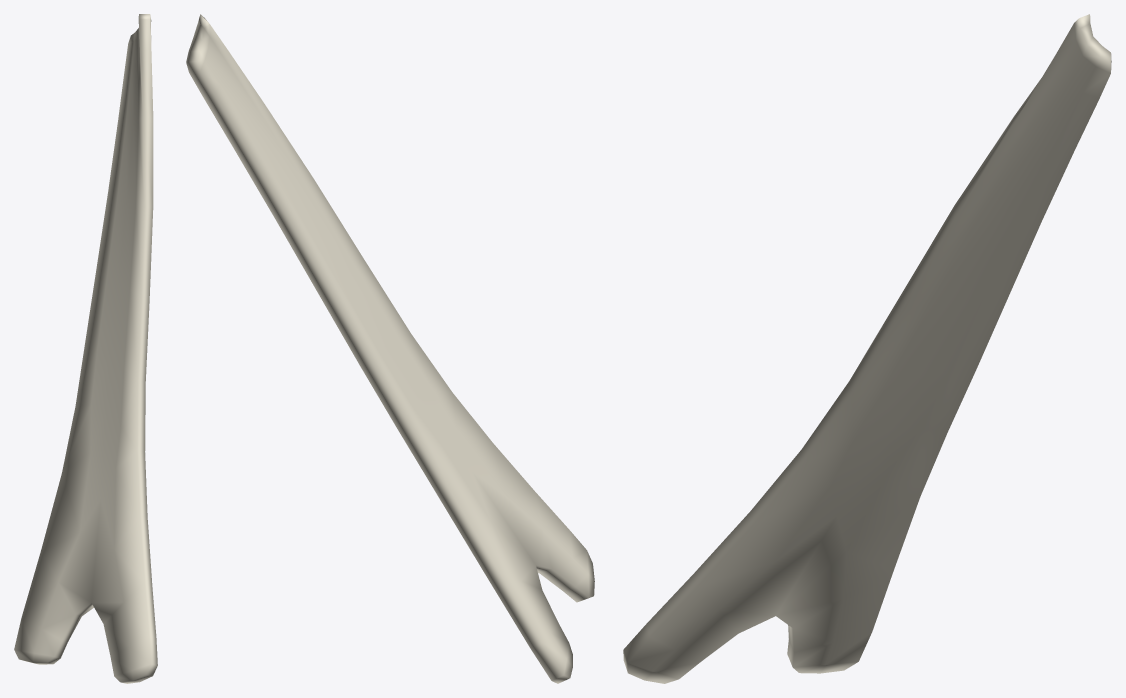
The picture shows the model from 3 angles, left to right: view 1: azimuth 30°, elevation 25°; view 2: azimuth 150°, elevation 25°; view 3: azimuth 270°, elevation 25°; orthographic projection. The views are drawn at different scales.
Parts seen in each view (by area): view 1: ZA_7bcd3e50e9f3dab3; view 2: ZA_7bcd3e50e9f3dab3; view 3: ZA_7bcd3e50e9f3dab3.
Boxes of the visible parts, x1=… form: ZA_7bcd3e50e9f3dab3: x1=14, y1=14, x2=157, y2=683; ZA_7bcd3e50e9f3dab3: x1=186, y1=14, x2=594, y2=683; ZA_7bcd3e50e9f3dab3: x1=623, y1=14, x2=1111, y2=683.
Bounding box in the file's own units: 0.0108 × 0.0258 × 0.0142.
